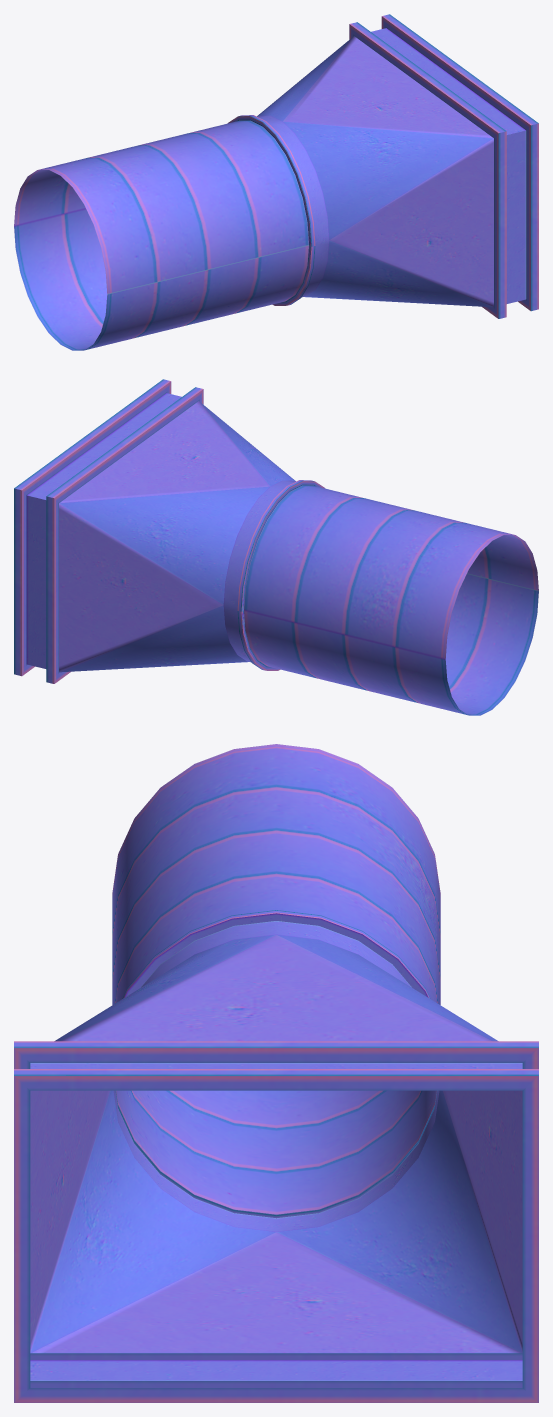
The model's file is Cylindrical_To_Rect_Converter.fbx.
3 renders of one model, top to bottom at view 1: azimuth 30°, elevation 25°; view 2: azimuth 150°, elevation 25°; view 3: azimuth 270°, elevation 25°, orthographic. The views are drawn at different scales.
Parts seen in each view (by area): view 1: Cylindrical_Duct_100cm.001; view 2: Cylindrical_Duct_100cm.001; view 3: Cylindrical_Duct_100cm.001.
Boxes of the visible parts, box(x1,y1,x2,y2) form: Cylindrical_Duct_100cm.001: box(14, 14, 538, 350); Cylindrical_Duct_100cm.001: box(14, 379, 538, 715); Cylindrical_Duct_100cm.001: box(14, 744, 538, 1402).
Size of the model in its own units: 100 by 44 by 64.
1 material, 1 textured.
